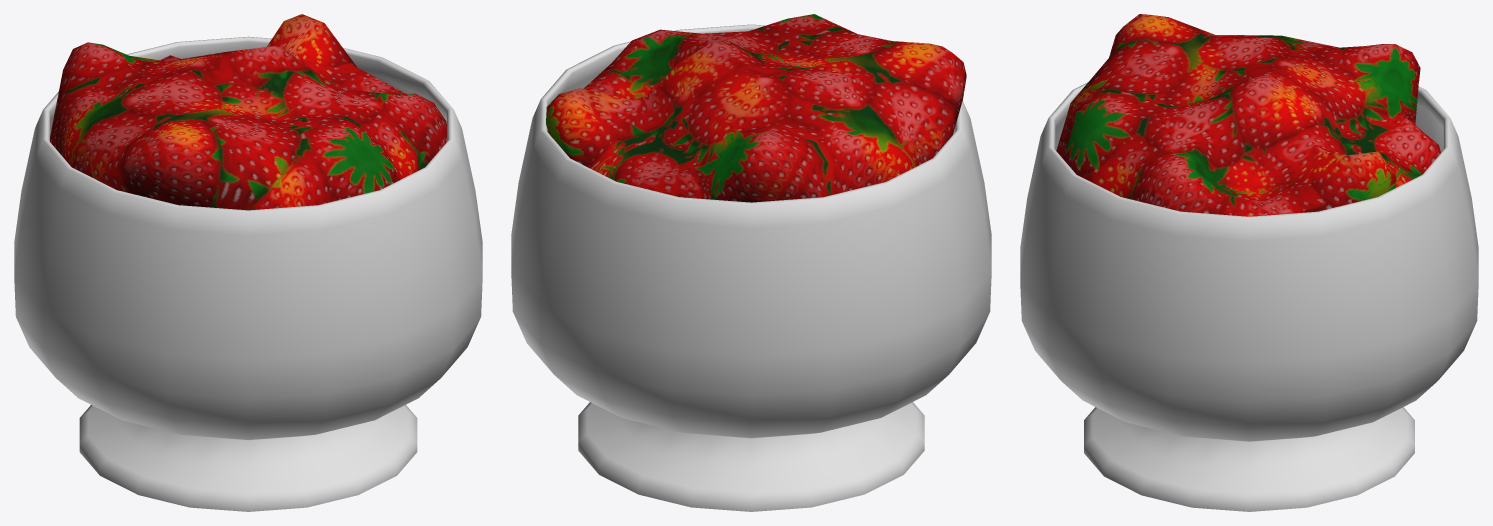
File: BuffetBerries02_4.FBX
3 renders of one model, left to right at view 1: azimuth 30°, elevation 25°; view 2: azimuth 150°, elevation 25°; view 3: azimuth 270°, elevation 25°, orthographic. The views are drawn at different scales.
Visible parts, largest first — view 1: BuffetBerries02_4; view 2: BuffetBerries02_4; view 3: BuffetBerries02_4.
Part boxes in pixels (x1=…): BuffetBerries02_4: x1=14, y1=14, x2=482, y2=511; BuffetBerries02_4: x1=511, y1=14, x2=991, y2=511; BuffetBerries02_4: x1=1020, y1=14, x2=1478, y2=511.
Size of what is drawn, in the model's own units: 0.263 by 0.2327 by 0.259.
